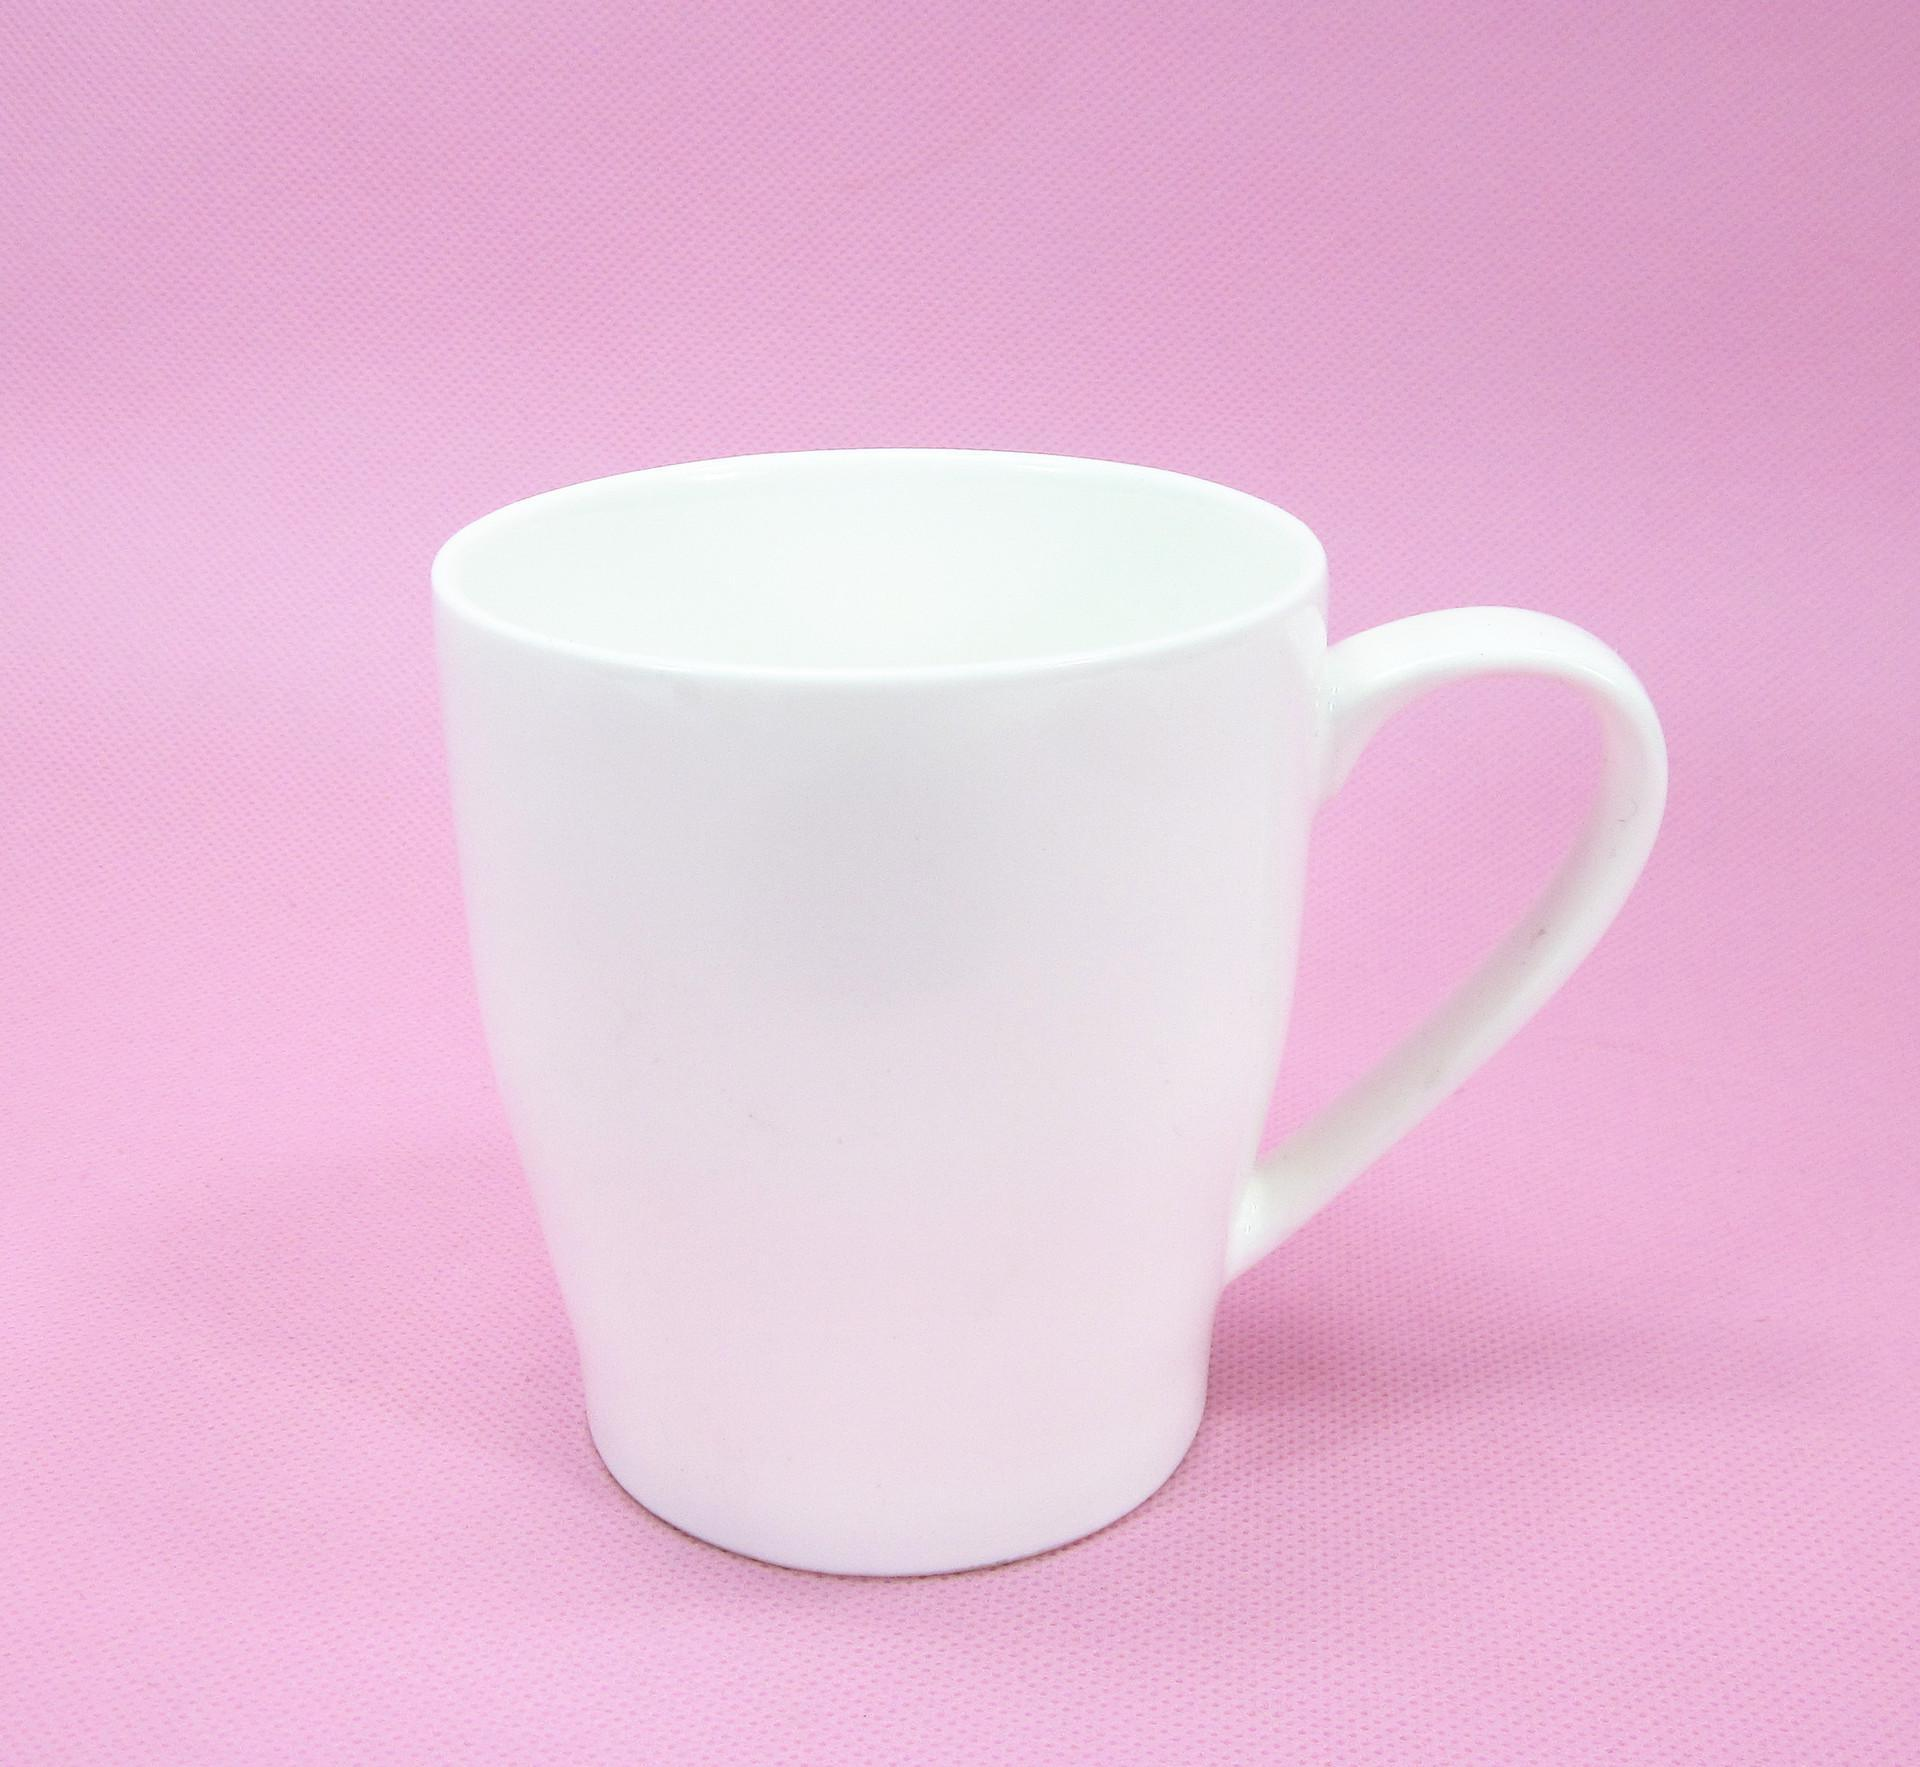cup: (425, 440, 1674, 1586)
